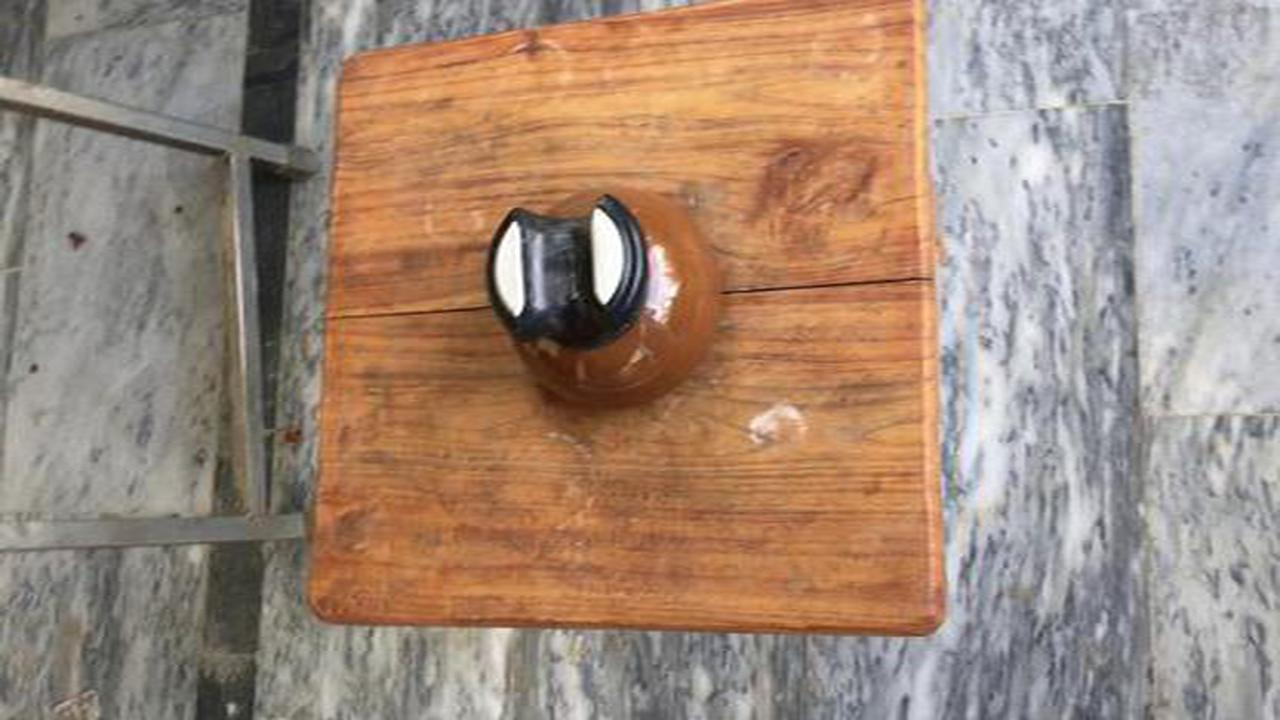insulator_pin: (465, 175, 751, 421)
